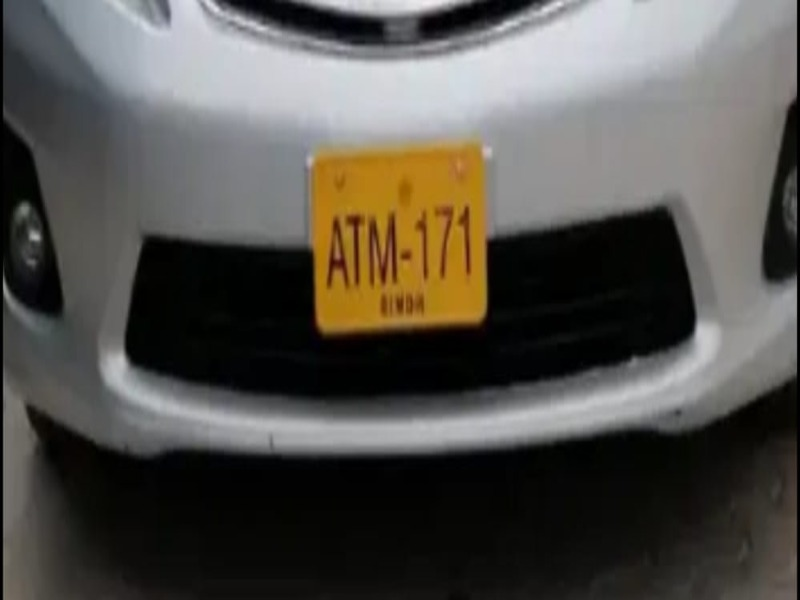License Plate: (302, 139, 496, 343)
